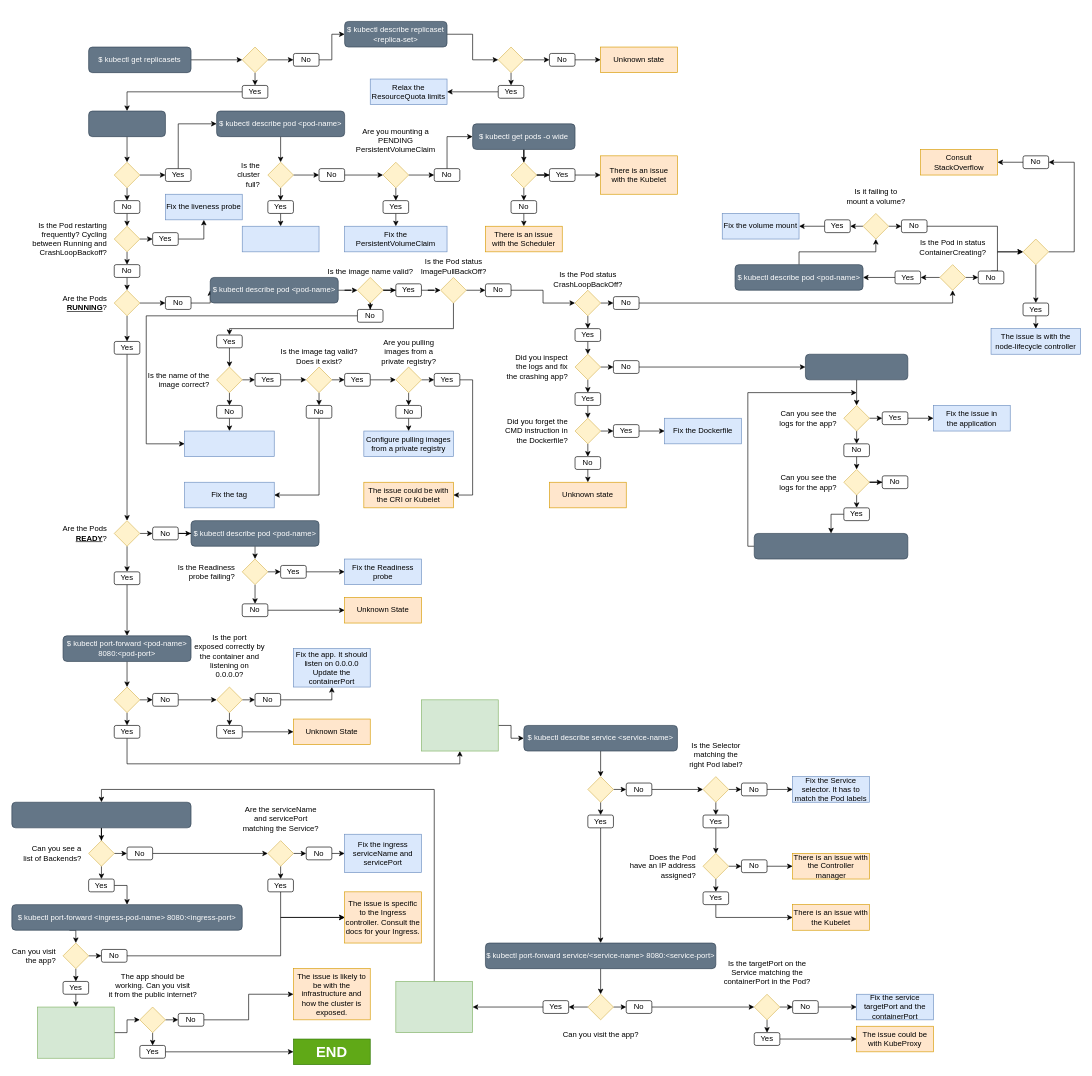
Image size: 1092x1076. Some labels were removed from this diagram. The centre of each missing label's shape, as x and y in pixels:
"$ kubectl describe ingress <ingress-name>" goes at (101,815).
"$ kubectl get pods" goes at (126,123).
"$ kubectl logs <pod-name>" goes at (856,367).
"$ kubectl logs <pod-name> --previous" goes at (831,546).
"Are you hitting the ResourceQuota limits" goes at (511,59).
"Can you access the app?" goes at (127,699).
"Can you see a list of endpoints?" goes at (600,789).
"Do the number of desired pods match the number of current pods?" goes at (255,59).
"Fix the image name" goes at (229,443).
"Is the Pod assigned to a Node" goes at (523,175).
"Is there any container Running?" goes at (1035,251).
"Is there any PENDING Pod?" goes at (127,175).
"Pods are running correctly" goes at (459,725).
"Provision a bigger cluster" goes at (280,239).
"The Ingress is running correctly" goes at (75,1032).
"The Service is running correctly" goes at (434,1007).
